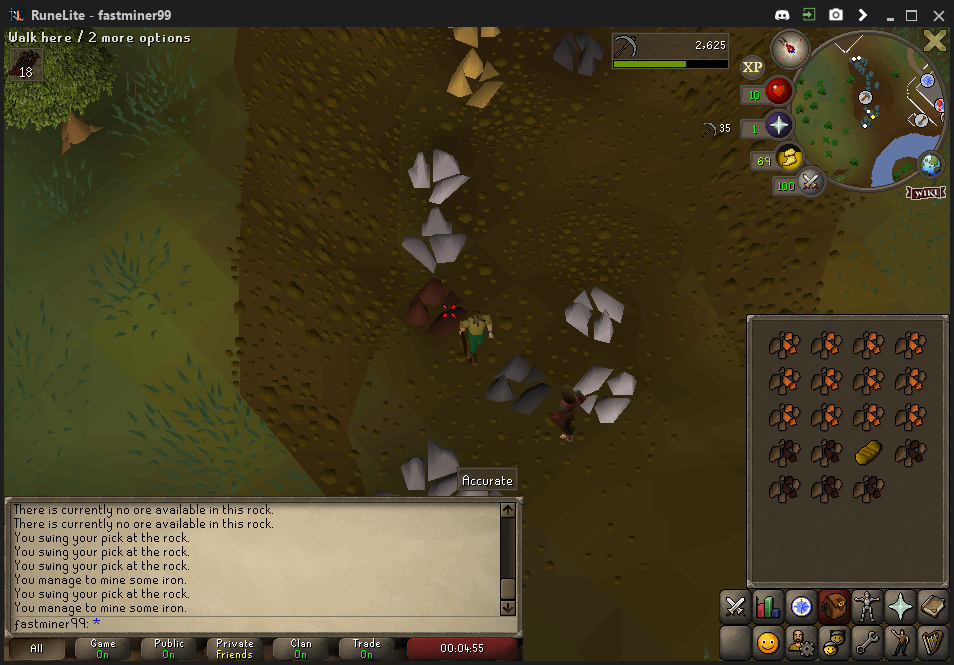depleted: (482, 358, 550, 418), (548, 29, 609, 78)
ore: (405, 279, 469, 335)
